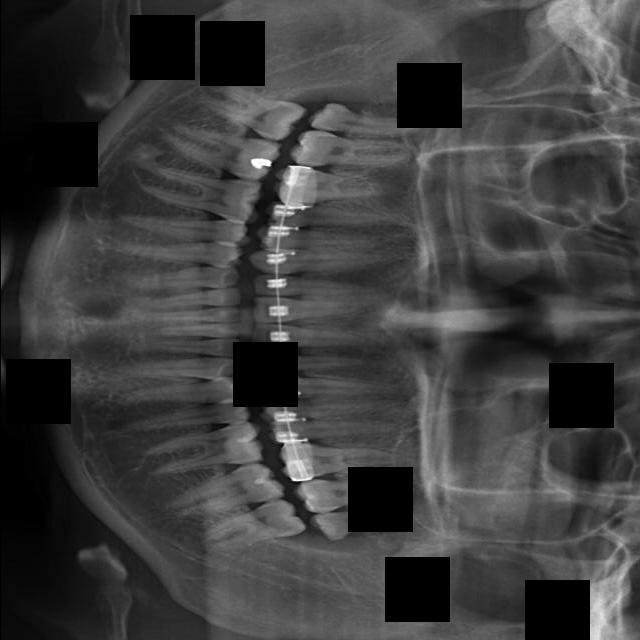3M ESPE Implant: (307, 99, 424, 144)
AGS Medikal Implant: (165, 458, 284, 524)
AMerOss Implant: (147, 421, 263, 478)
Amalgam filling: (289, 127, 413, 179)
Anthogyr Implant: (196, 425, 198, 426)
Bicon Implant: (122, 376, 247, 414)
BioHorizons Implant: (130, 355, 241, 386)
BioLife Implant: (158, 338, 243, 356)
Biomet 3i Implant: (160, 321, 241, 338)
Blue Sky Bio Implant: (157, 305, 238, 328)
Camlog Implant: (149, 287, 242, 312)
Caries: (257, 344, 371, 375)
Composite filling: (137, 266, 243, 291)
Cowellmedi Implant: (119, 232, 246, 268)
Crown: (122, 207, 252, 247)
DENTSPLY Implant: (275, 163, 412, 213)
Dentatus Implant: (143, 167, 265, 224)
Dentis Implant: (162, 122, 283, 183)
Dentium Implant: (193, 78, 307, 145)
Euroteknika Implant: (267, 200, 405, 237)
Filling: (257, 224, 381, 249)
Frontier Implant: (251, 249, 399, 275)
Hiossen Implant: (255, 369, 407, 401)
Implant: (253, 295, 377, 325)
Implant Direct: (253, 274, 376, 299)
Keystone Dental Implant: (254, 322, 382, 350)
MIS Implant: (260, 389, 406, 424)
Mandible: (281, 444, 282, 444)
Maxilla: (278, 433, 400, 483)
Megagen Implant: (296, 479, 413, 512)
Neodent Implant: (311, 506, 408, 542)
Neoss Implant: (198, 495, 307, 558)
